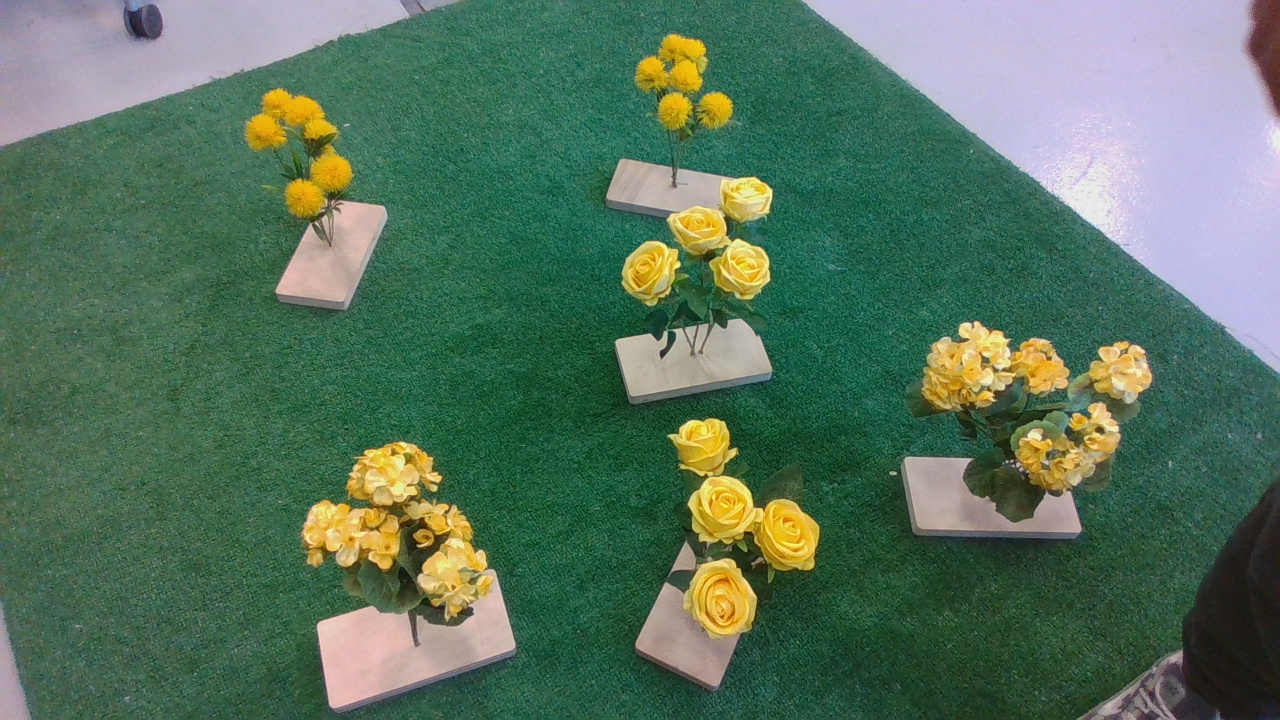dandelion: (241, 81, 370, 230), (626, 29, 745, 150)
geranium: (908, 312, 1160, 528), (301, 444, 505, 641)
rose: (660, 409, 833, 649), (620, 175, 798, 343)
